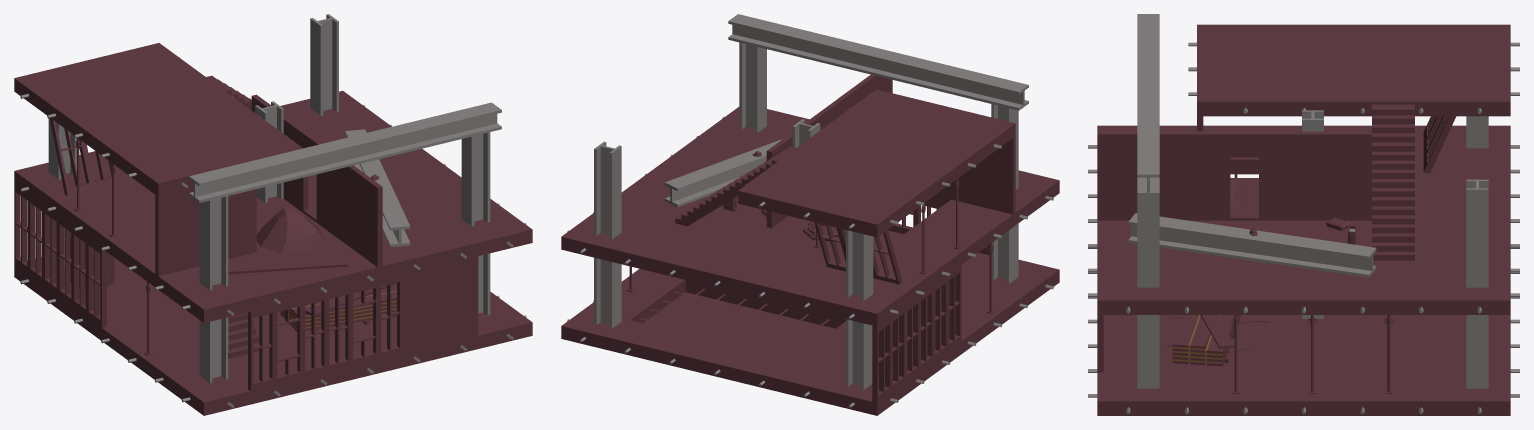
File: contruction-large.fbx
3 renders of one model, left to right at view 1: azimuth 30°, elevation 25°; view 2: azimuth 150°, elevation 25°; view 3: azimuth 270°, elevation 25°, orthographic. The views are drawn at different scales.
Visible parts, largest first — view 1: contruction-large-base, contruction-large-props; view 2: contruction-large-base, contruction-large-props; view 3: contruction-large-base, contruction-large-props.
Part boxes in pixels (x1,y1,x2,y2): contruction-large-base: [14, 14, 532, 415]; contruction-large-props: [14, 118, 410, 390]; contruction-large-base: [561, 14, 1059, 415]; contruction-large-props: [627, 139, 994, 402]; contruction-large-base: [1088, 14, 1519, 415]; contruction-large-props: [1128, 116, 1456, 393].
Bounding box in the file's own units: 13.58 × 8.14 × 13.58.
